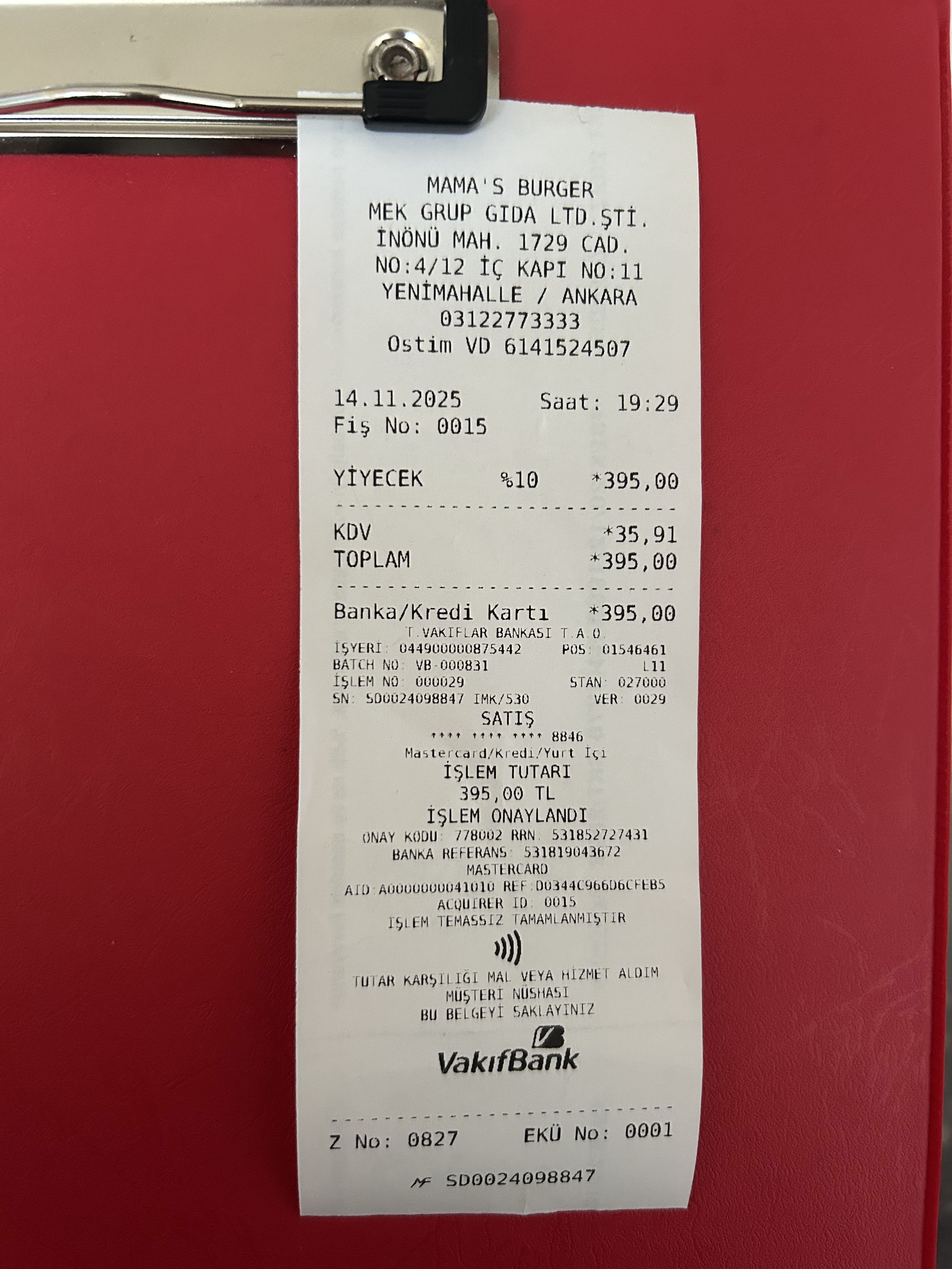date: (597, 546, 683, 580)
price: (328, 382, 469, 414)
workplace: (364, 167, 667, 311)
